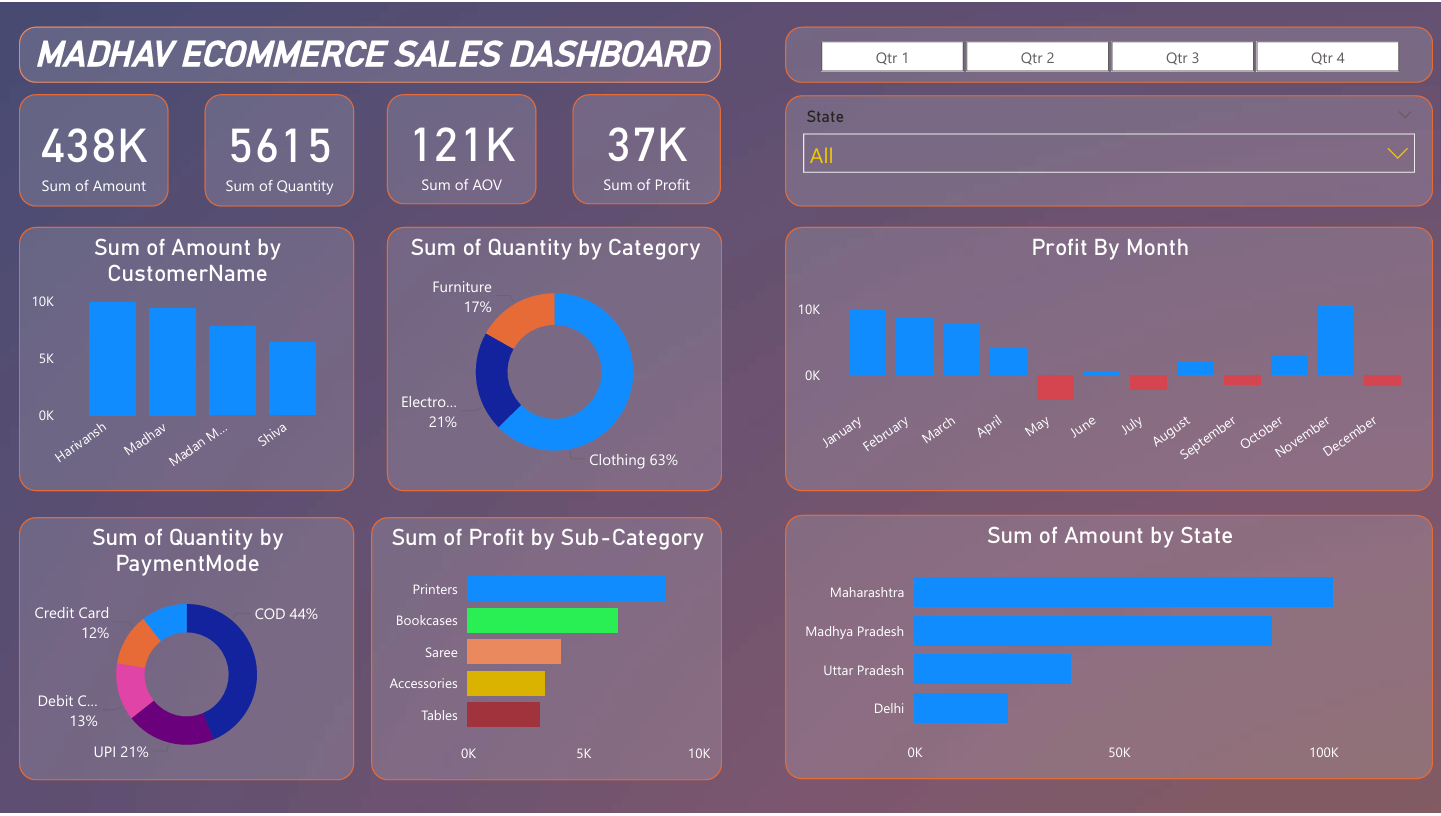

This screenshot's page, from the dashboard's own definition file:
{"tool":"powerbi","page":{"name":"Page 1","canvas":[1280,720],"ordinal":0},"visuals":[{"type":"textbox","title":"MADHAV ECOMMERCE SALES DASHBOARD","box":[15.6,21.3,624.4,49.8],"z":0},{"type":"columnChart","title":"Profit By Month","fields":{"Y":["Details.Profit"],"Category":["Orders.Order Date.Variation.Date Hierarchy.Month"]},"box":[696.9,199.1,576,234.7],"z":1000},{"type":"barChart","fields":{"Category":["Details.Sub-Category"],"Y":["Details.Profit"]},"box":[328.5,456.5,312.9,234.7],"z":2000},{"type":"donutChart","fields":{"Category":["Details.Category"],"Y":["Details.Quantity"]},"box":[342.8,199.1,298.7,234.7],"z":3000},{"type":"donutChart","fields":{"Y":["Details.Quantity"],"Category":["Details.PaymentMode"]},"box":[15.6,456.5,298.7,234],"z":4000},{"type":"card","fields":{"Values":["Details.Amount"]},"box":[15.6,81.1,133.7,99.6],"z":5000},{"type":"card","fields":{"Values":["Details.Quantity"]},"box":[180.6,81.1,133.7,99.6],"z":6000},{"type":"card","fields":{"Values":["Details.Profit"]},"box":[507.7,81.1,132.3,98.1],"z":7000},{"type":"card","fields":{"Values":["Details.AOV"]},"box":[342.8,81.1,133.7,98.1],"z":8000},{"type":"barChart","fields":{"Category":["Orders.State"],"Y":["Details.Amount"]},"box":[696.9,455.1,576,234.7],"z":9000},{"type":"clusteredColumnChart","fields":{"Category":["Orders.CustomerName"],"Y":["Details.Amount"]},"box":[15.6,199.1,298.7,234.7],"z":10000},{"type":"slicer","fields":{"Values":["Orders.Order Date.Variation.Date Hierarchy.Quarter"]},"box":[696.9,21.3,576,49.8],"z":11000},{"type":"slicer","fields":{"Values":["Orders.State"]},"box":[696.9,82.5,576,98.1],"z":12000}]}

Visuals, with their boxes in screenshot pixels (x1, y1, x2, y2), scaled from the page's 1280x720 canvas onto the 1441x816 screenshot:
"MADHAV ECOMMERCE SALES DASHBOARD" textbox: (x1=18, y1=24, x2=720, y2=81)
"Profit By Month" columnChart: (x1=785, y1=226, x2=1433, y2=492)
barChart - Details.Sub-Category x Details.Profit: (x1=370, y1=517, x2=722, y2=783)
donutChart - Details.Category x Details.Quantity: (x1=386, y1=226, x2=722, y2=492)
donutChart - Details.Quantity x Details.PaymentMode: (x1=18, y1=517, x2=354, y2=783)
card - Details.Amount: (x1=18, y1=92, x2=168, y2=205)
card - Details.Quantity: (x1=203, y1=92, x2=354, y2=205)
card - Details.Profit: (x1=572, y1=92, x2=720, y2=203)
card - Details.AOV: (x1=386, y1=92, x2=536, y2=203)
barChart - Orders.State x Details.Amount: (x1=785, y1=516, x2=1433, y2=782)
clusteredColumnChart - Orders.CustomerName x Details.Amount: (x1=18, y1=226, x2=354, y2=492)
slicer - Orders.Order Date.Variation.Date Hierarchy.Quarter: (x1=785, y1=24, x2=1433, y2=81)
slicer - Orders.State: (x1=785, y1=94, x2=1433, y2=205)
